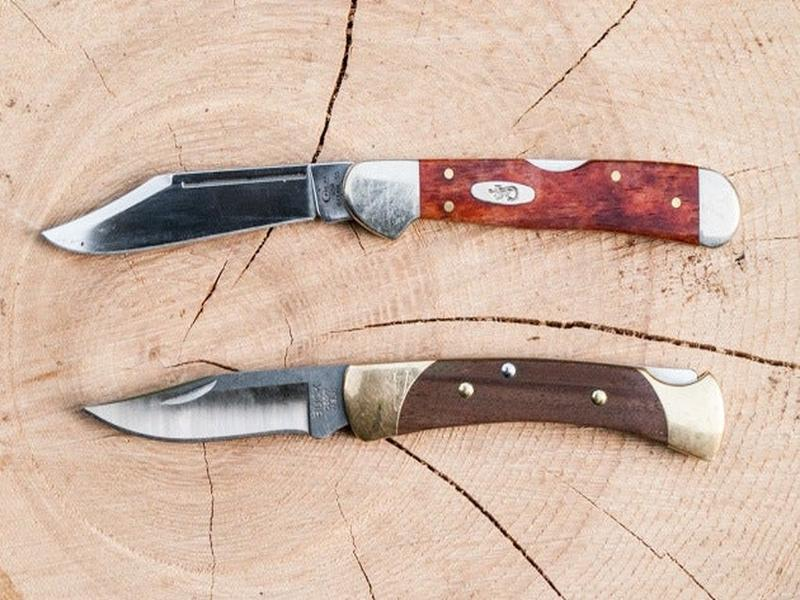KNIFE: (34, 150, 743, 472)
